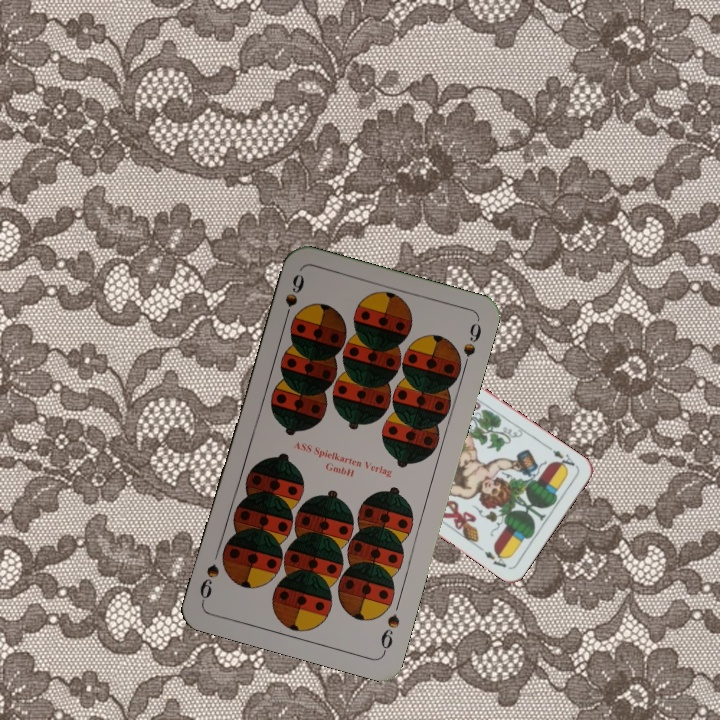EA: (544, 442, 578, 473)
S9: (279, 270, 307, 327), (376, 609, 403, 656)
